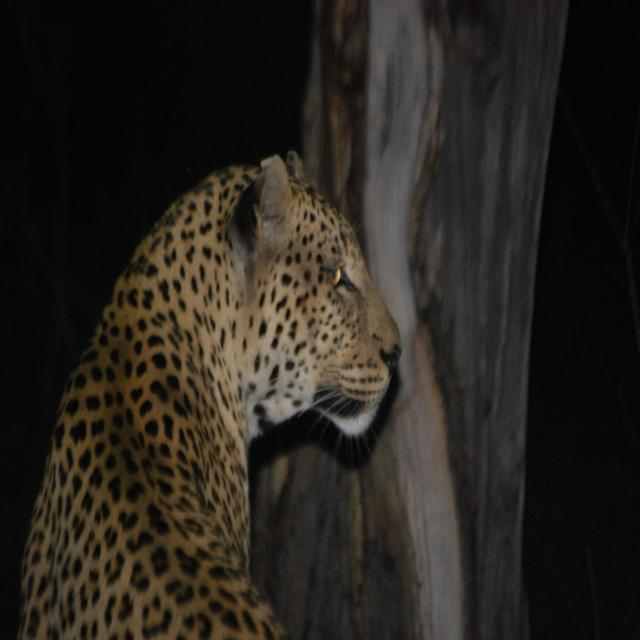Leopard: (15, 154, 431, 639)
